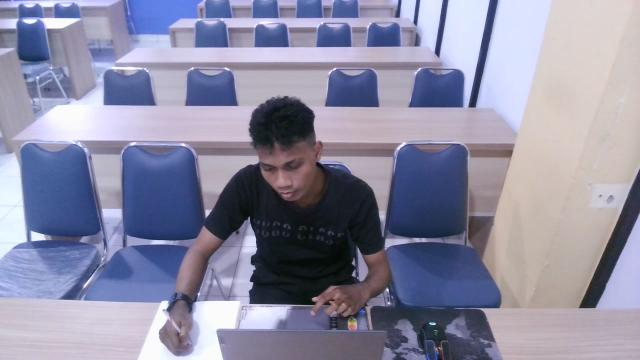Normal_Writing: (146, 83, 399, 360)
